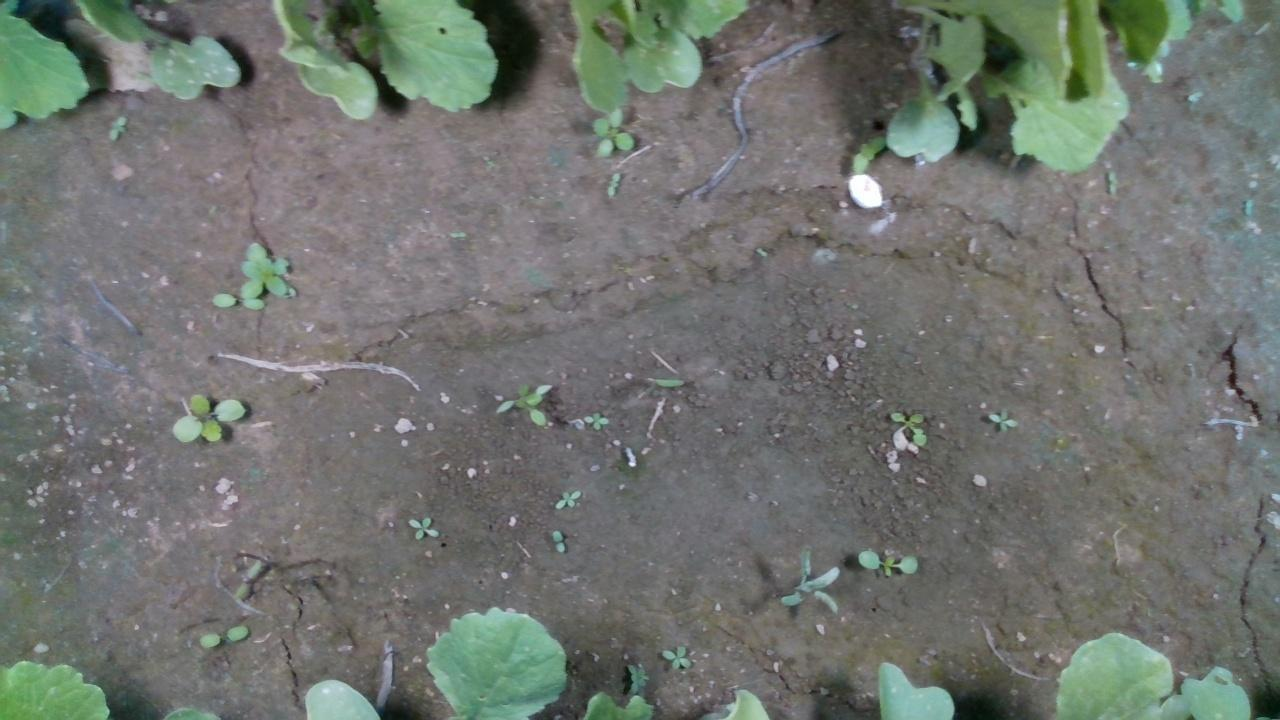weed: (169, 390, 247, 443), (856, 548, 918, 579), (231, 556, 261, 601), (197, 623, 249, 648), (406, 514, 439, 541), (984, 408, 1018, 434), (659, 644, 691, 670), (553, 487, 580, 510), (105, 113, 126, 141), (581, 411, 609, 431), (605, 170, 620, 198), (550, 529, 565, 553)
